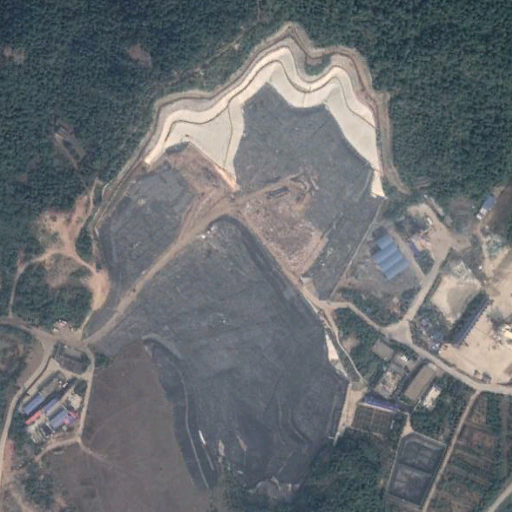lf: (107, 37, 391, 494)
